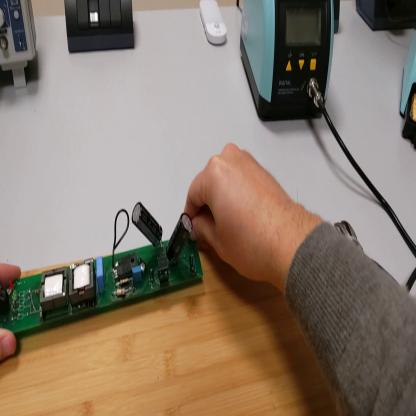hand: (184, 144, 294, 289), (1, 262, 24, 368)
high voltage board: (1, 201, 205, 336)
oscilloscope: (2, 2, 41, 89)
pliers: (335, 217, 365, 255)
socket: (357, 3, 416, 31), (333, 3, 343, 33)
welder base: (400, 44, 416, 149)
welder station: (240, 1, 337, 126)
working area: (2, 233, 338, 414)
